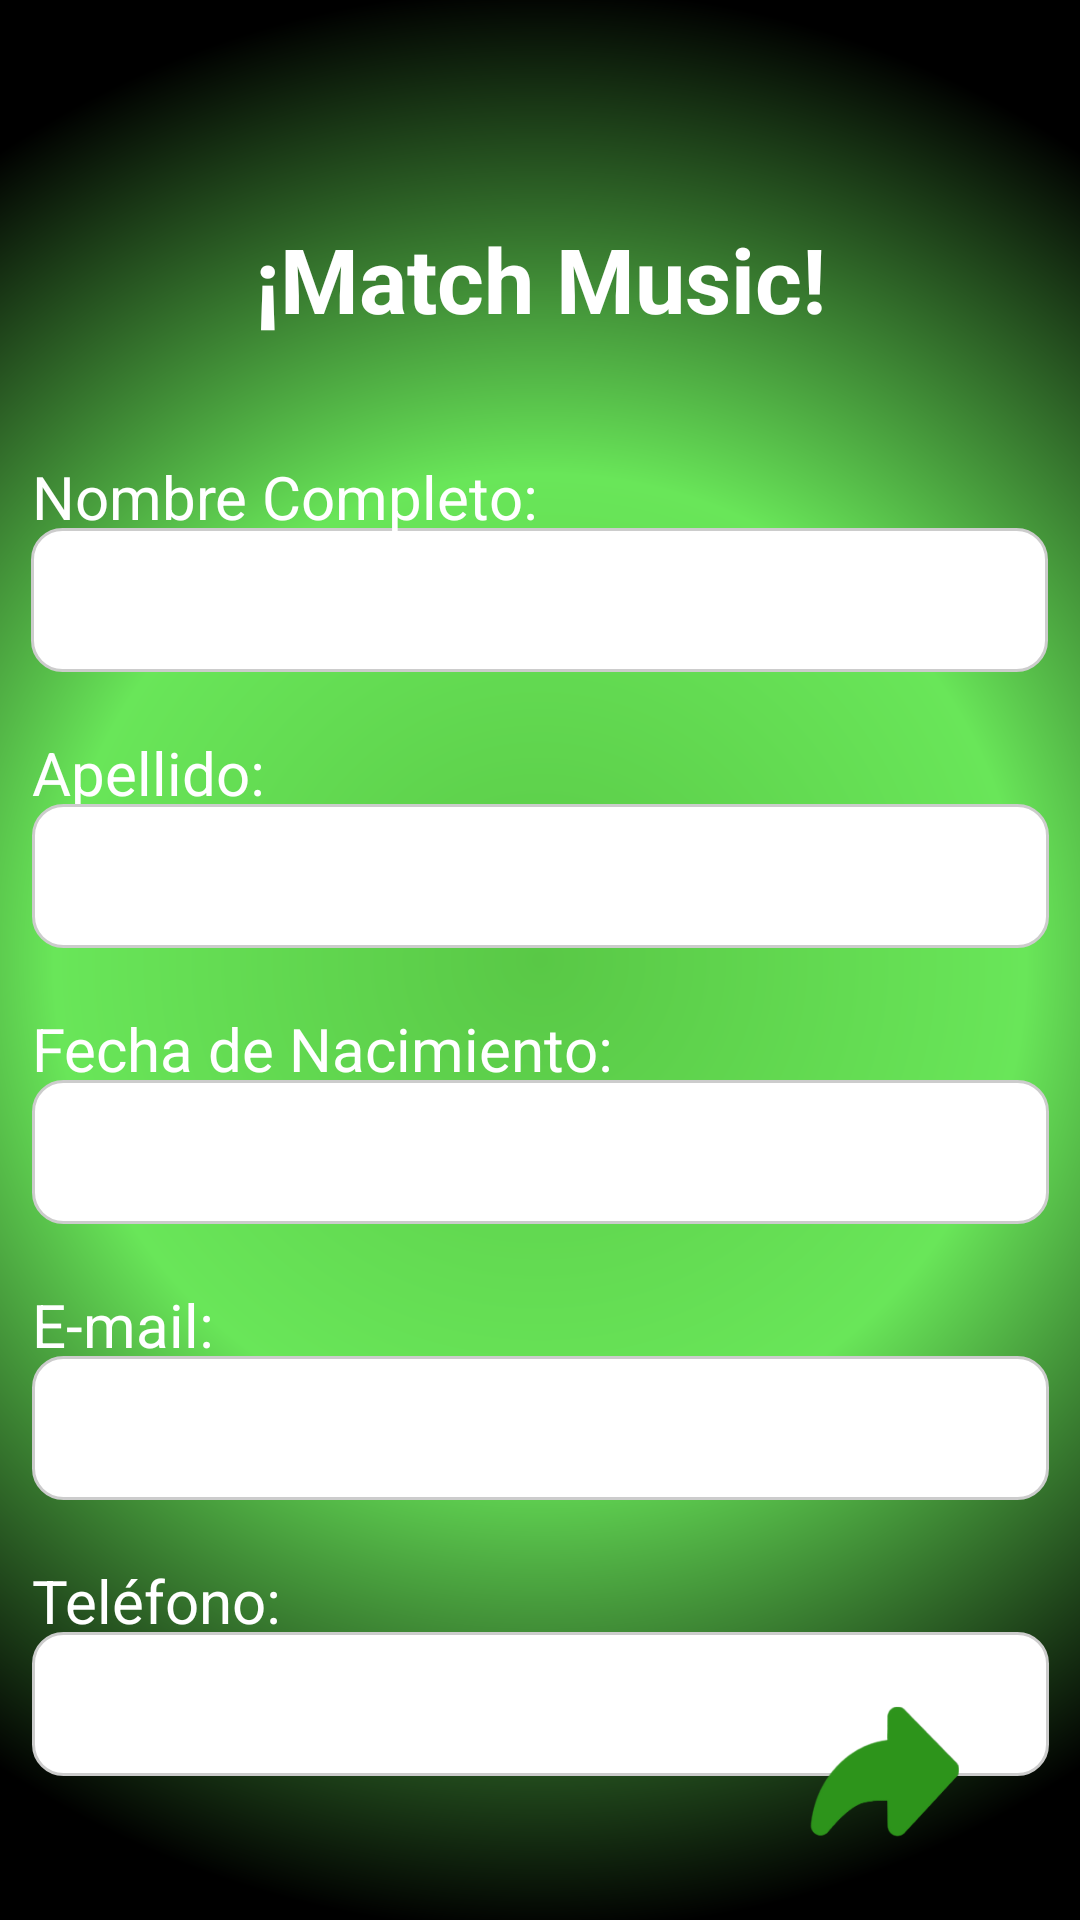

Named icons in this screenshot (1080 × 1920) and their centers, [x,y]:
flecha seguir: [891,1774]
